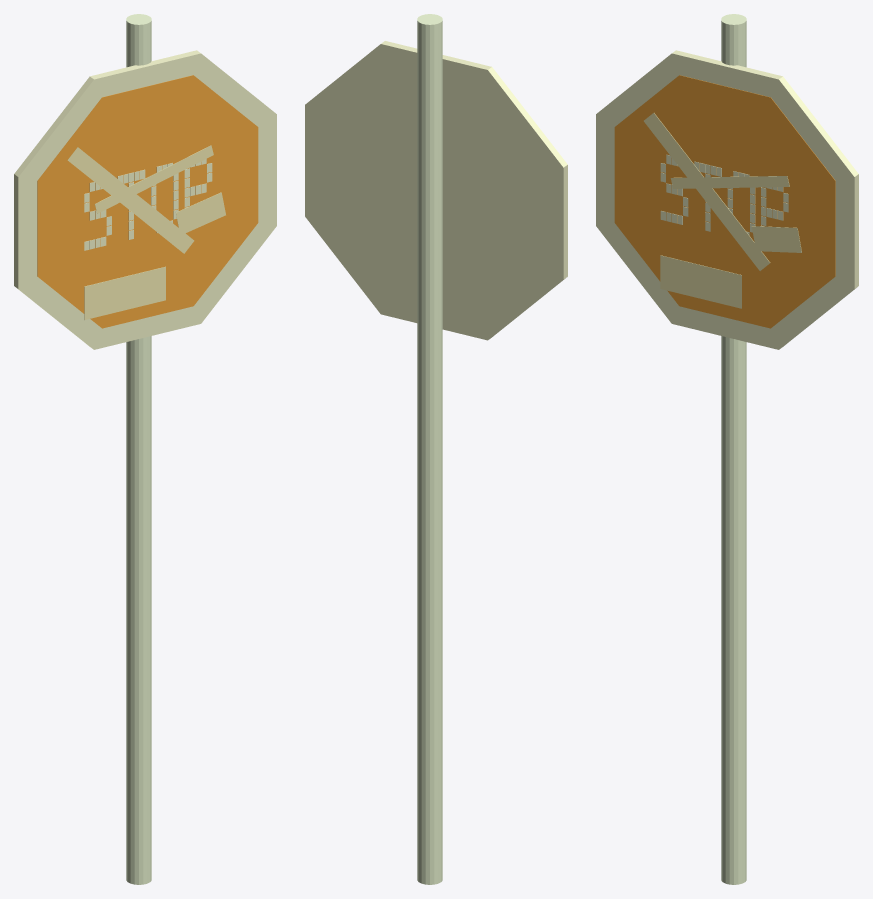
Rendered from sign_stop_weathered.glb.
The picture shows the model from 3 angles, left to right: view 1: azimuth 30°, elevation 25°; view 2: azimuth 150°, elevation 25°; view 3: azimuth 330°, elevation 25°; orthographic projection.
Parts seen in each view (by area): view 1: layer_1_00, plate_base_00, pole, layer_3_00, layer_3_02, layer_3_03, layer_3_01; view 2: plate_base_00, pole; view 3: layer_1_00, plate_base_00, pole, layer_3_00, layer_3_02, layer_3_03, layer_3_01.
Boxes of the visible parts, x1,y1,x2,y2 form: layer_1_00: (37, 75, 258, 328); plate_base_00: (14, 50, 276, 349); pole: (126, 14, 151, 884); layer_3_00: (84, 266, 165, 319); layer_3_02: (67, 147, 194, 253); layer_3_03: (94, 145, 213, 213); layer_3_01: (176, 192, 225, 235); plate_base_00: (305, 41, 567, 340); pole: (417, 14, 442, 884); layer_1_00: (614, 75, 835, 328); plate_base_00: (596, 50, 858, 349); pole: (721, 14, 746, 884); layer_3_00: (660, 255, 741, 308); layer_3_02: (644, 113, 770, 270); layer_3_03: (670, 176, 789, 188); layer_3_01: (751, 226, 801, 252).
Bounding box in the file's own units: 0.6918 × 2.2 × 0.074.
